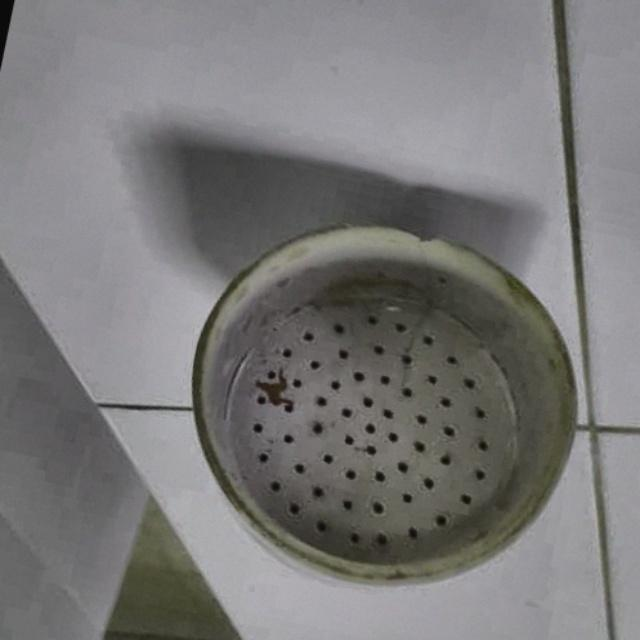Bunchen funnel: (137, 174, 624, 634)
